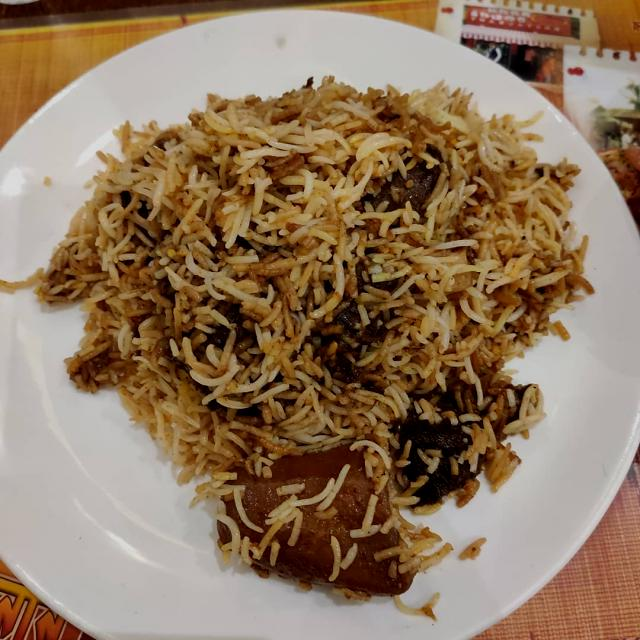biryani: (58, 33, 632, 566)
